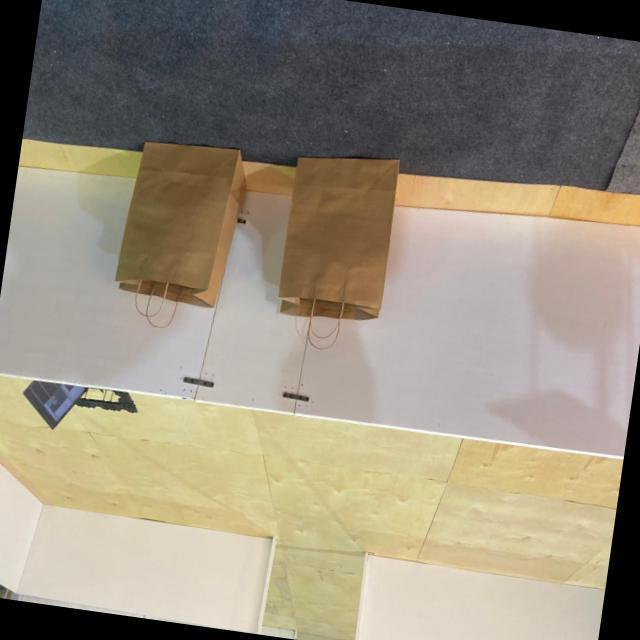Paper_Bag: (109, 134, 252, 337), (271, 145, 402, 357)
